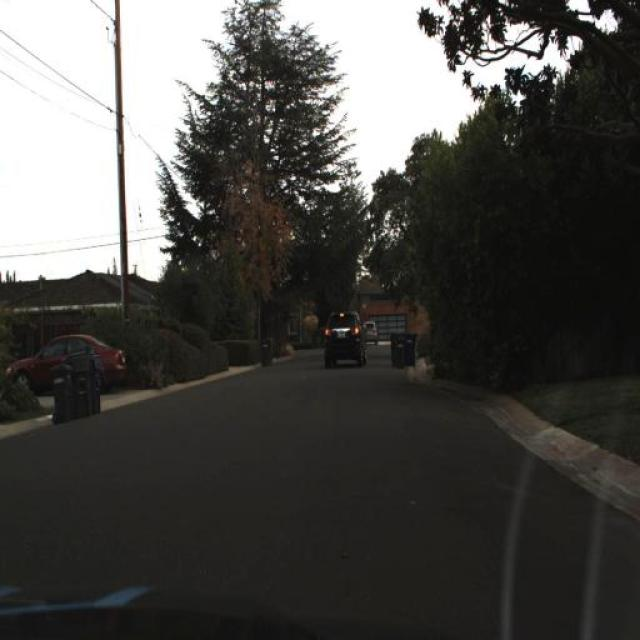car: (2, 323, 132, 402), (316, 299, 379, 381)
